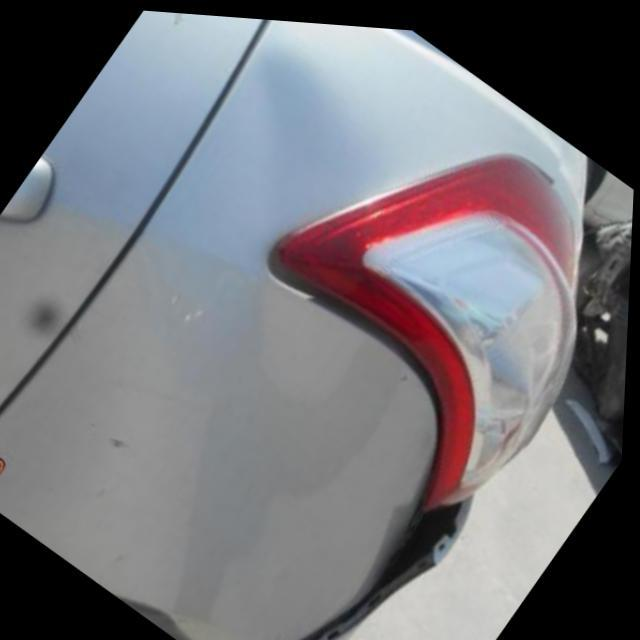dislocated part: (293, 489, 476, 640)
scratch: (24, 295, 72, 340), (104, 428, 138, 450)
